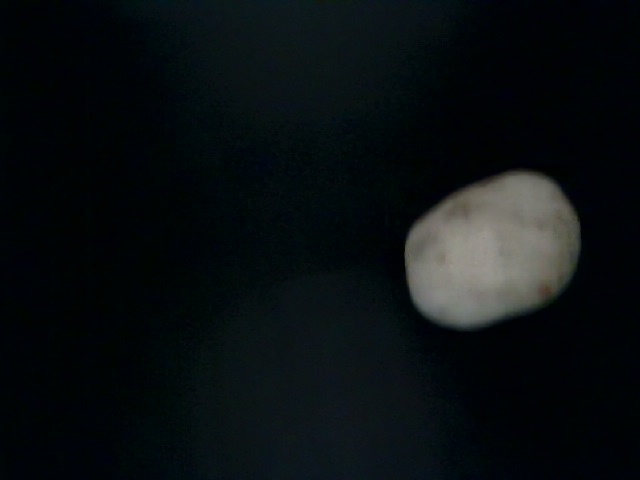QTLJ: (209, 144, 427, 410)
